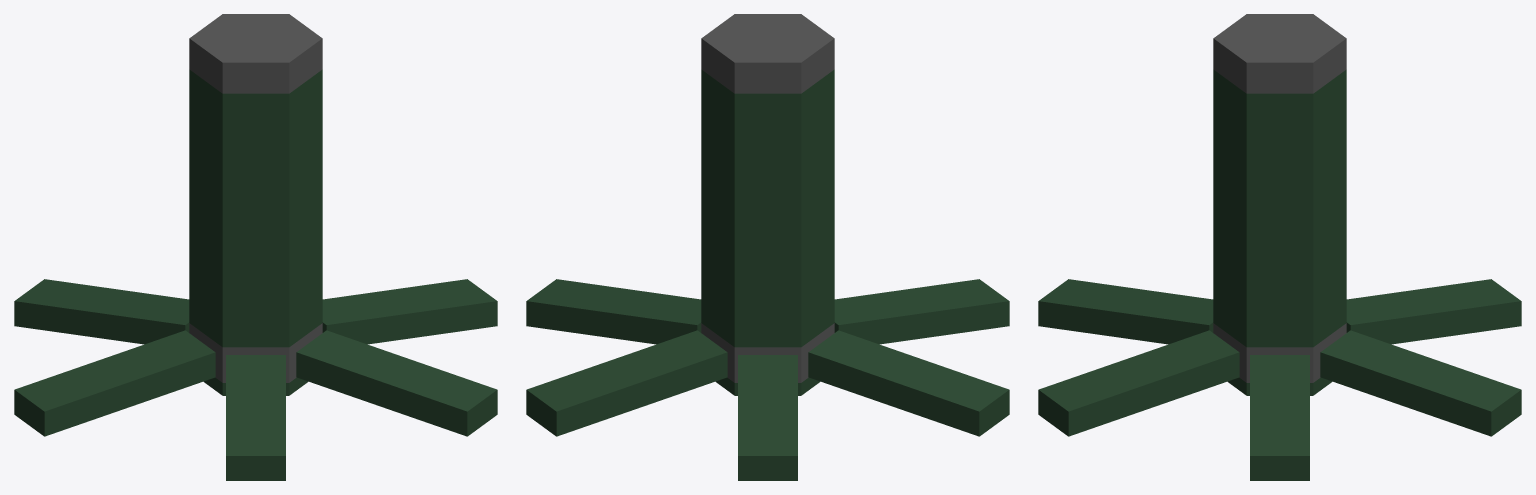
The model's file is claymore_2.fbx.
3 renders of one model, left to right at view 1: azimuth 30°, elevation 25°; view 2: azimuth 150°, elevation 25°; view 3: azimuth 270°, elevation 25°, orthographic.
Visible parts, largest first — view 1: body.011; view 2: body.011; view 3: body.011.
Part boxes in pixels (box(x1,y1,x2,y2)): body.011: box(14, 14, 497, 480); body.011: box(526, 14, 1009, 480); body.011: box(1038, 14, 1521, 480).
Size of the model in its own units: 183 by 198 by 139.
